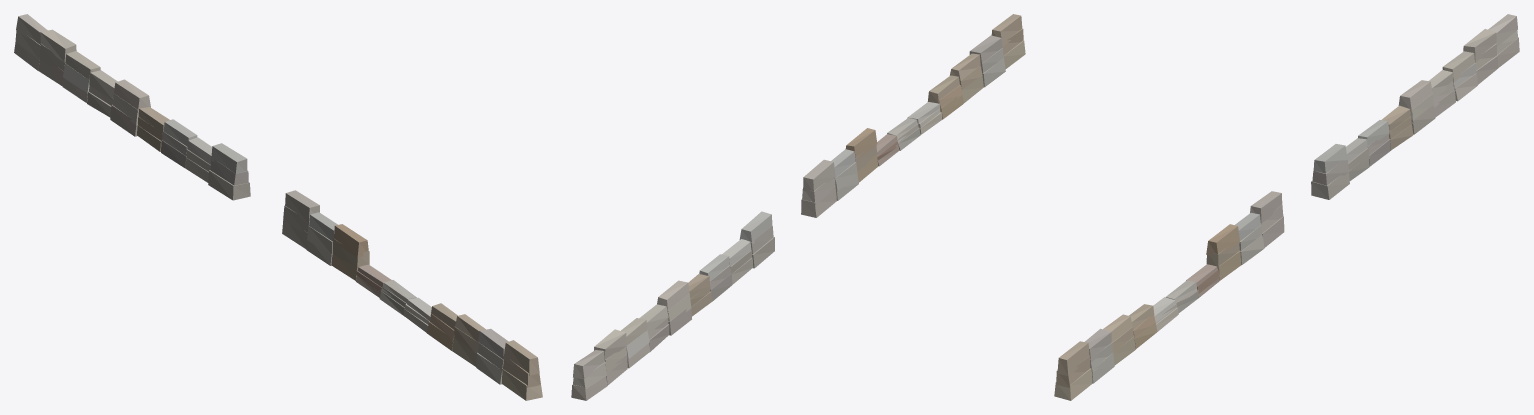
File: farm_4_-7_mid.glb
3 views of the same model, side by side, from view 1: azimuth 30°, elevation 25°; view 2: azimuth 150°, elevation 25°; view 3: azimuth 330°, elevation 25° (orthographic). The views are drawn at different scales.
Parts seen in each view (by area): view 1: geometry_0; view 2: geometry_0; view 3: geometry_0.
Part boxes in pixels (left/top/right/bottom): geometry_0: left=14, top=14, right=542, bottom=400; geometry_0: left=571, top=14, right=1025, bottom=400; geometry_0: left=1054, top=14, right=1519, bottom=400.
Size of the model in its own units: 1.57 by 1.69 by 32.39.
